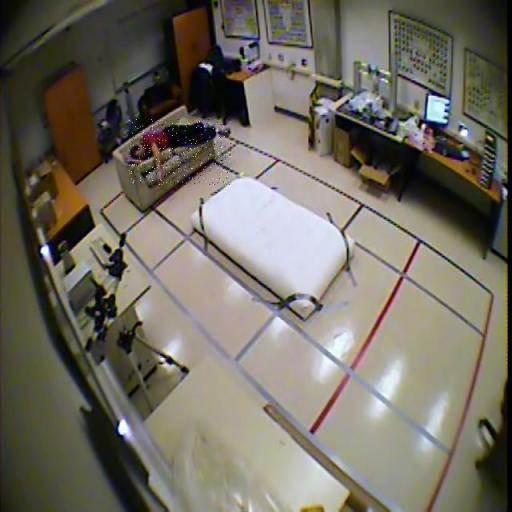Fall: (129, 119, 231, 185)
